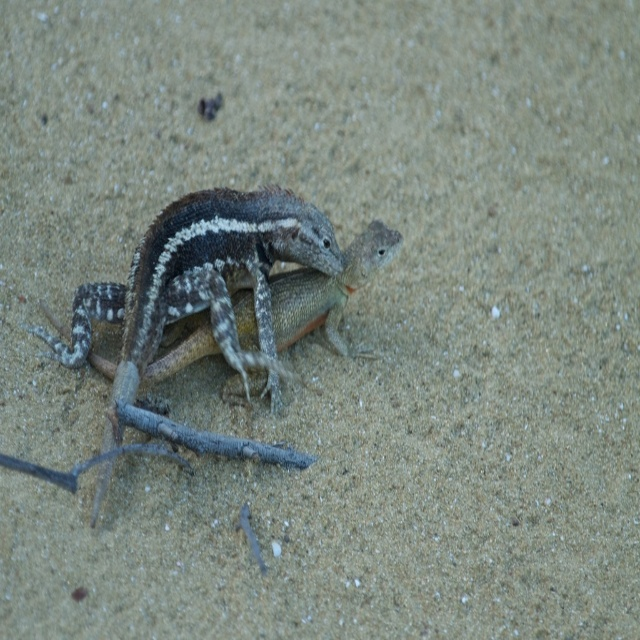Lizard: (86, 197, 372, 495)
